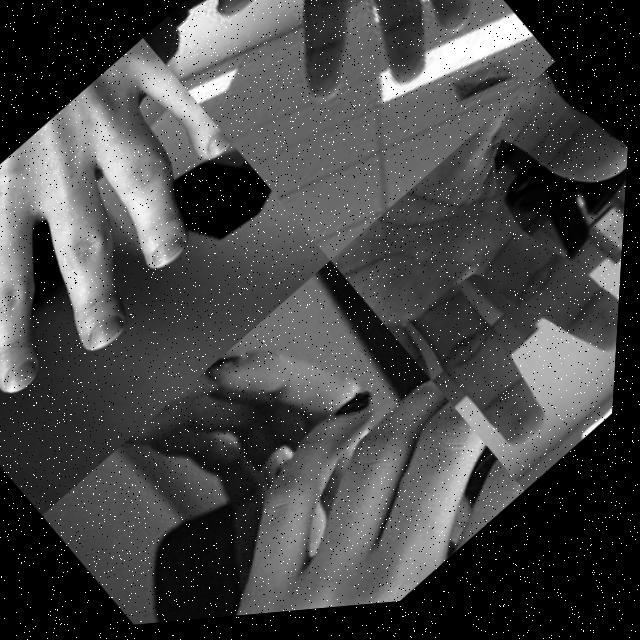no-gloves: (322, 65, 635, 490), (0, 29, 288, 454), (118, 343, 537, 630), (186, 0, 507, 170)
